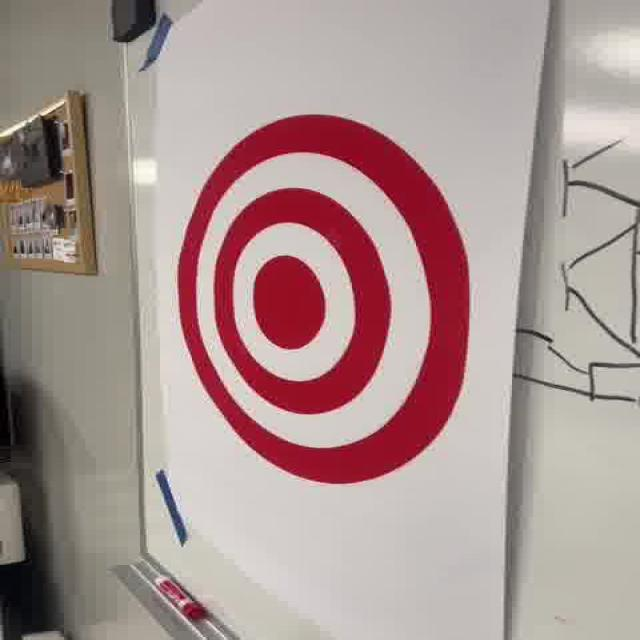target_red: (173, 114, 472, 486)
